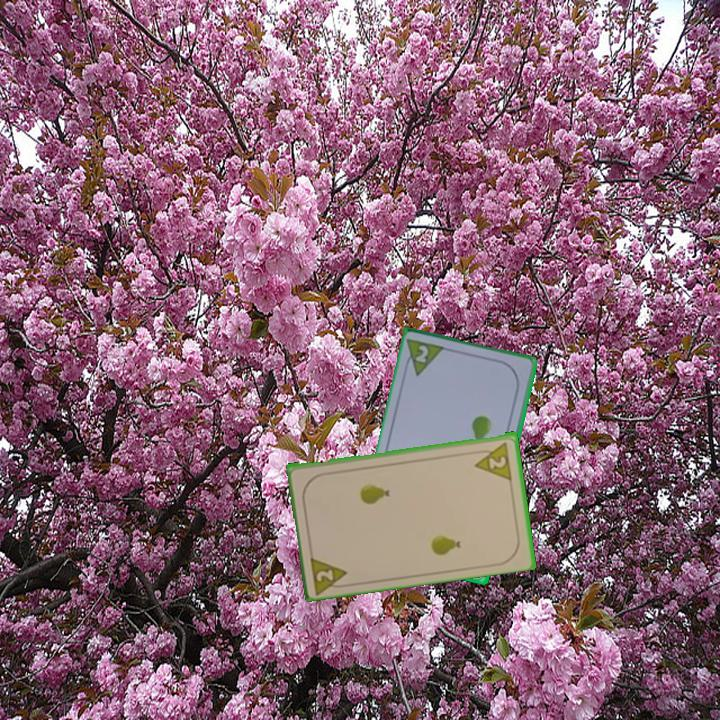2p: (307, 551, 353, 595), (470, 438, 515, 481), (412, 342, 432, 366)
